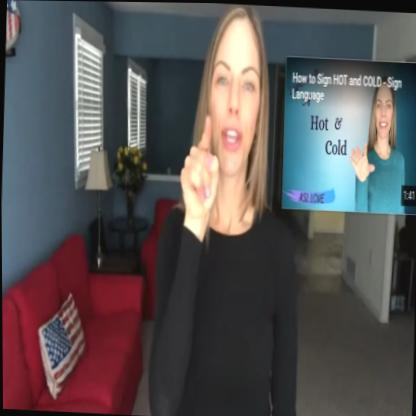NiceToMeetYou: (144, 2, 313, 416)
